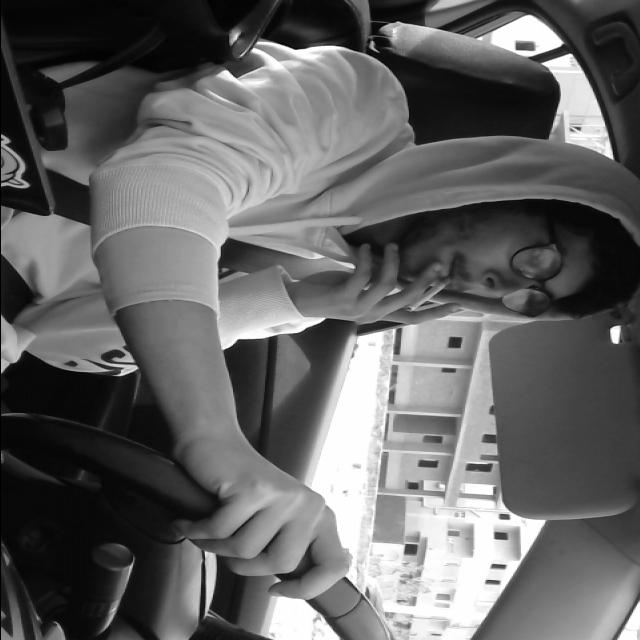smoking: (399, 268, 464, 318)
